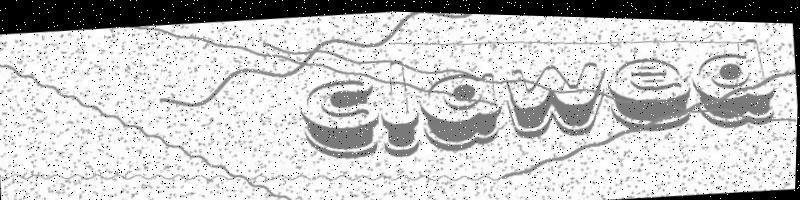a: (417, 66, 508, 153)
c: (296, 72, 384, 162)
d: (688, 30, 780, 128)
e: (605, 50, 696, 133)
l: (376, 55, 424, 157)
w: (502, 54, 612, 139)
